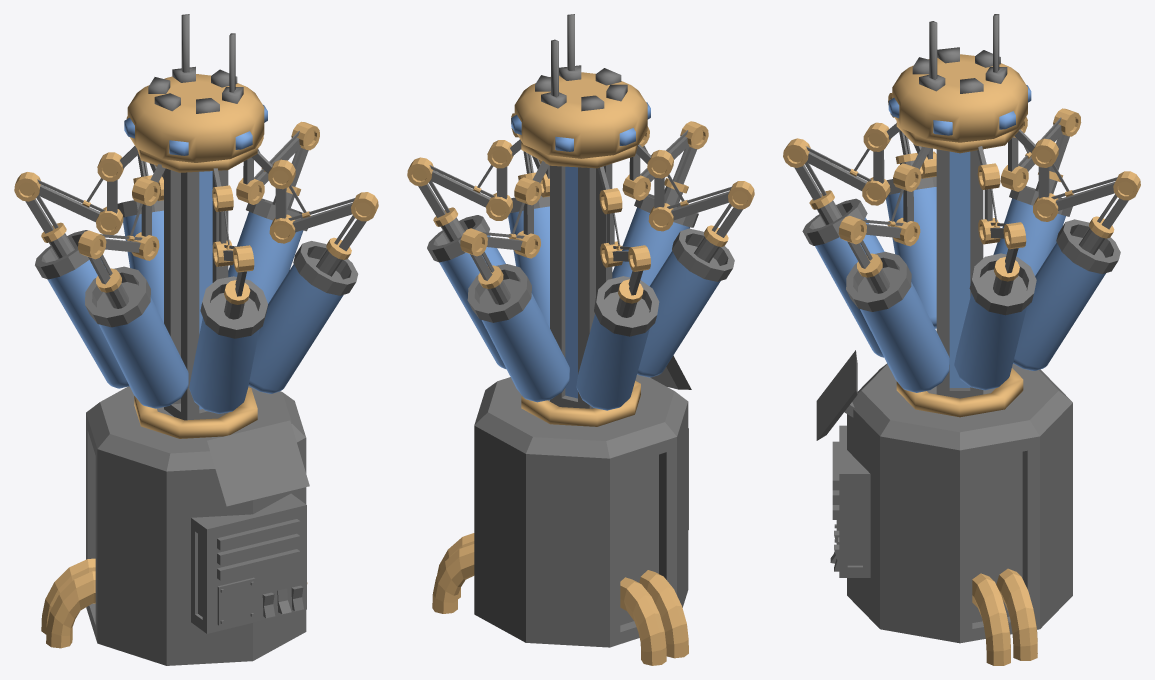
The model's file is FiltroAgua.fbx.
3 views of the same model, side by side, from view 1: azimuth 30°, elevation 25°; view 2: azimuth 150°, elevation 25°; view 3: azimuth 270°, elevation 25° (orthographic). The views are drawn at different scales.
Visible parts, largest first — view 1: FiltroAgua; view 2: FiltroAgua; view 3: FiltroAgua.
Boxes of the visible parts, x1,y1,x2,y2 form: FiltroAgua: (14,14,378,665); FiltroAgua: (407,14,754,665); FiltroAgua: (783,14,1140,665).
Bounding box in the file's own units: 76.04 × 146 × 80.03.
